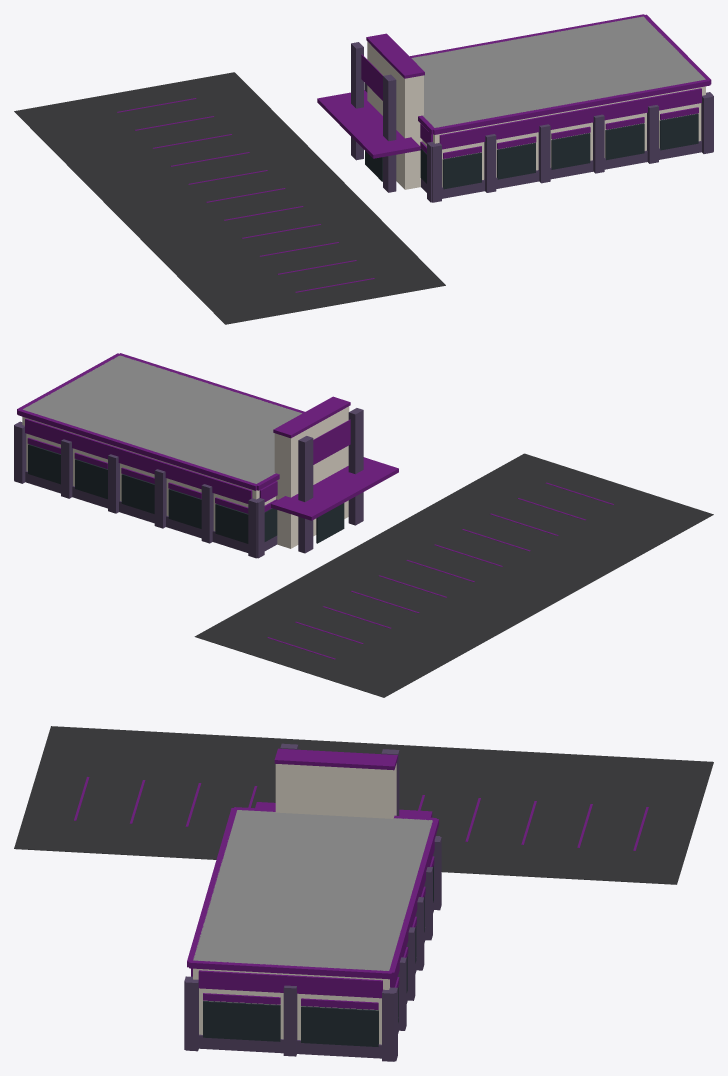
File: m_tacobell.glb
3 renders of one model, top to bottom at view 1: azimuth 30°, elevation 25°; view 2: azimuth 150°, elevation 25°; view 3: azimuth 270°, elevation 25°, orthographic. The views are drawn at different scales.
Parts seen in each view (by area): view 1: m_tacobell_lod0; view 2: m_tacobell_lod0; view 3: m_tacobell_lod0.
Boxes of the visible parts, x1=… form: m_tacobell_lod0: x1=14, y1=14, x2=713, y2=324; m_tacobell_lod0: x1=14, y1=353, x2=713, y2=697; m_tacobell_lod0: x1=14, y1=726, x2=713, y2=1061.
Size of what is drawn, in the model's own units: 38 by 7.4 by 33.52.
